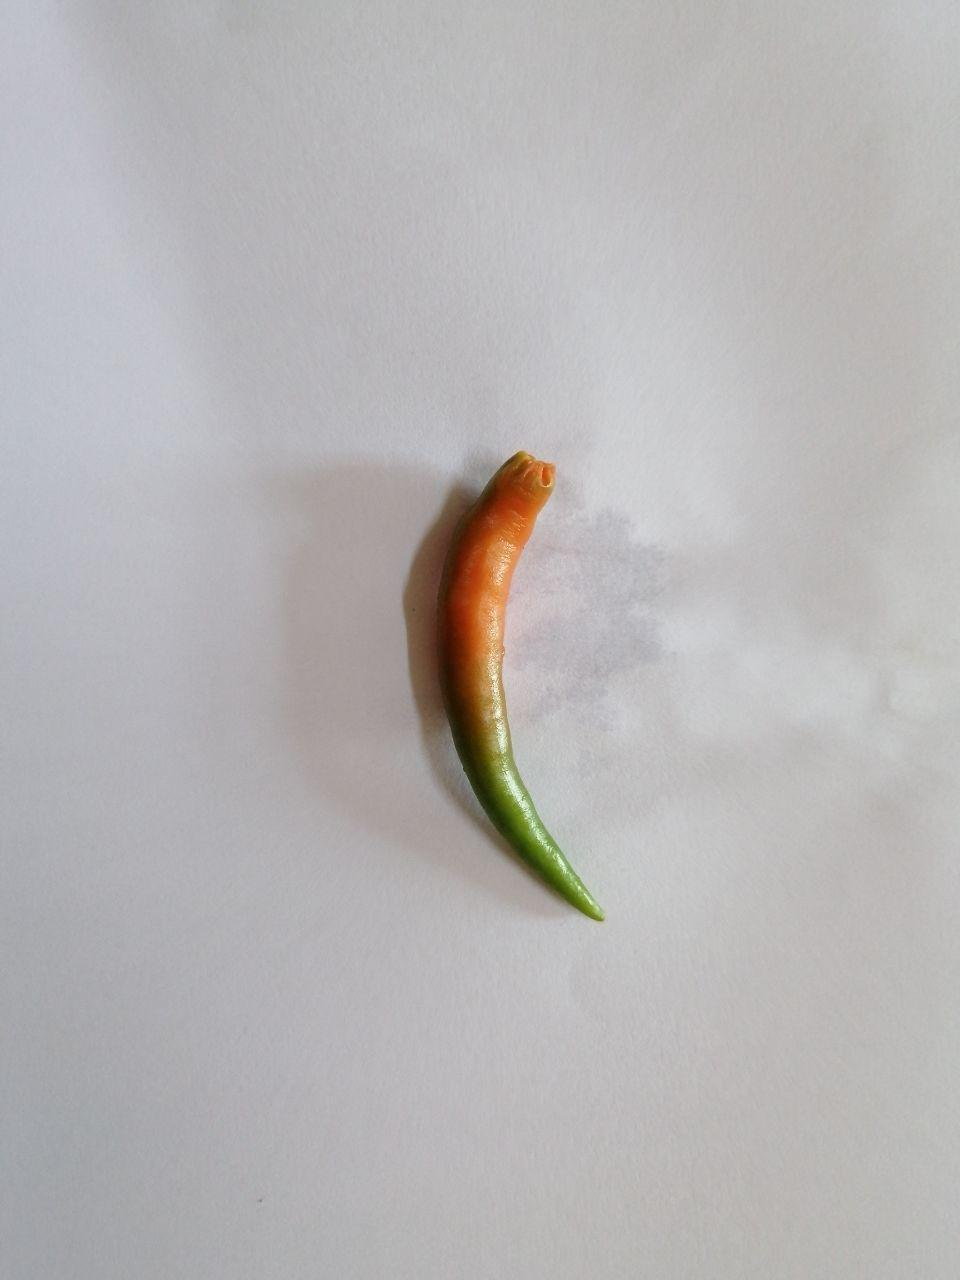lada kuning: (371, 429, 679, 968)
